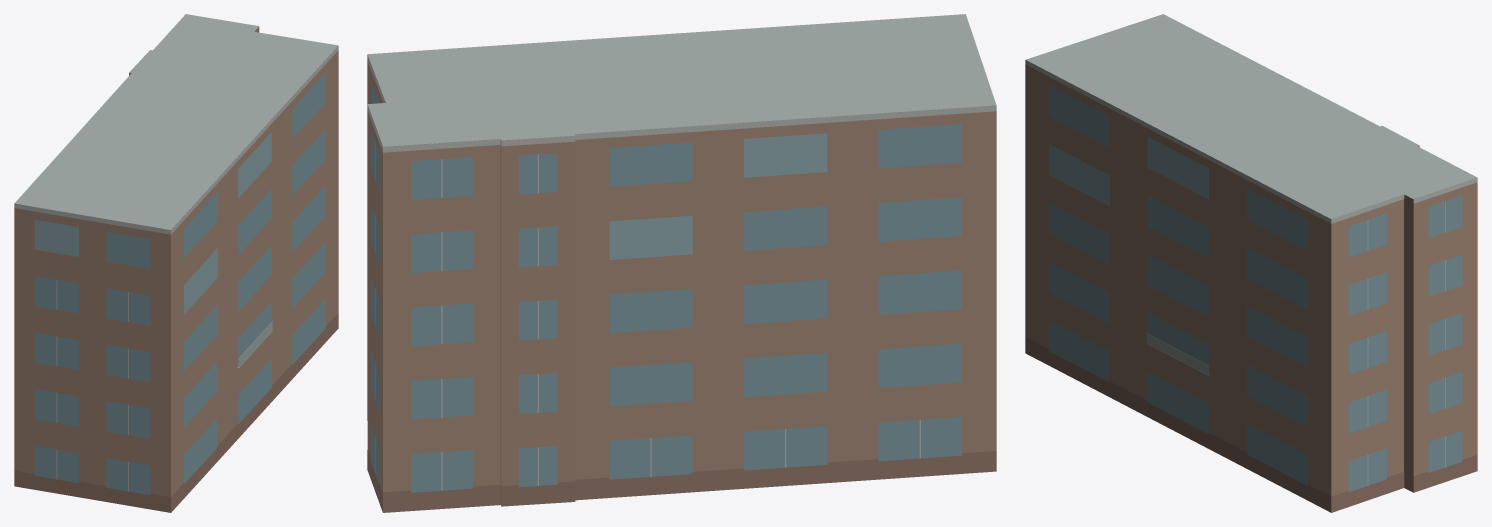
The model's file is survey-upis-32975859.glb.
3 renders of one model, left to right at view 1: azimuth 30°, elevation 25°; view 2: azimuth 150°, elevation 25°; view 3: azimuth 270°, elevation 25°, orthographic. The views are drawn at different scales.
Visible parts, largest first — view 1: survey-upis-32975859.tmp; view 2: survey-upis-32975859.tmp; view 3: survey-upis-32975859.tmp.
Part boxes in pixels (<box>): survey-upis-32975859.tmp: <box>14,14,338,512</box>; survey-upis-32975859.tmp: <box>367,14,996,512</box>; survey-upis-32975859.tmp: <box>1025,14,1477,512</box>.
Bounding box in the file's own units: 22.88 × 15.25 × 21.29.
